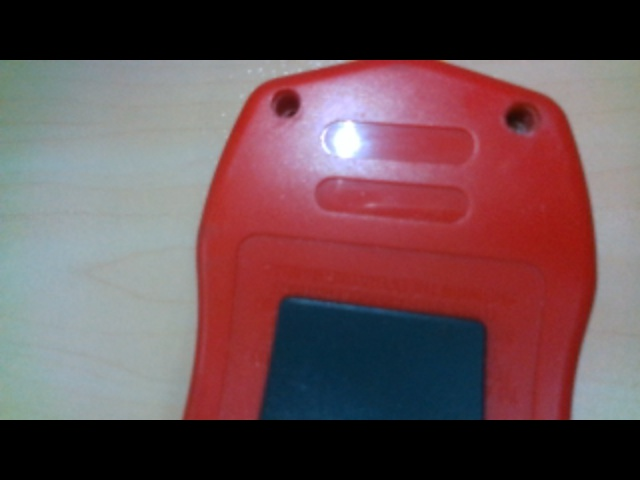Screw holes: (500, 97, 546, 142), (267, 86, 304, 120)
